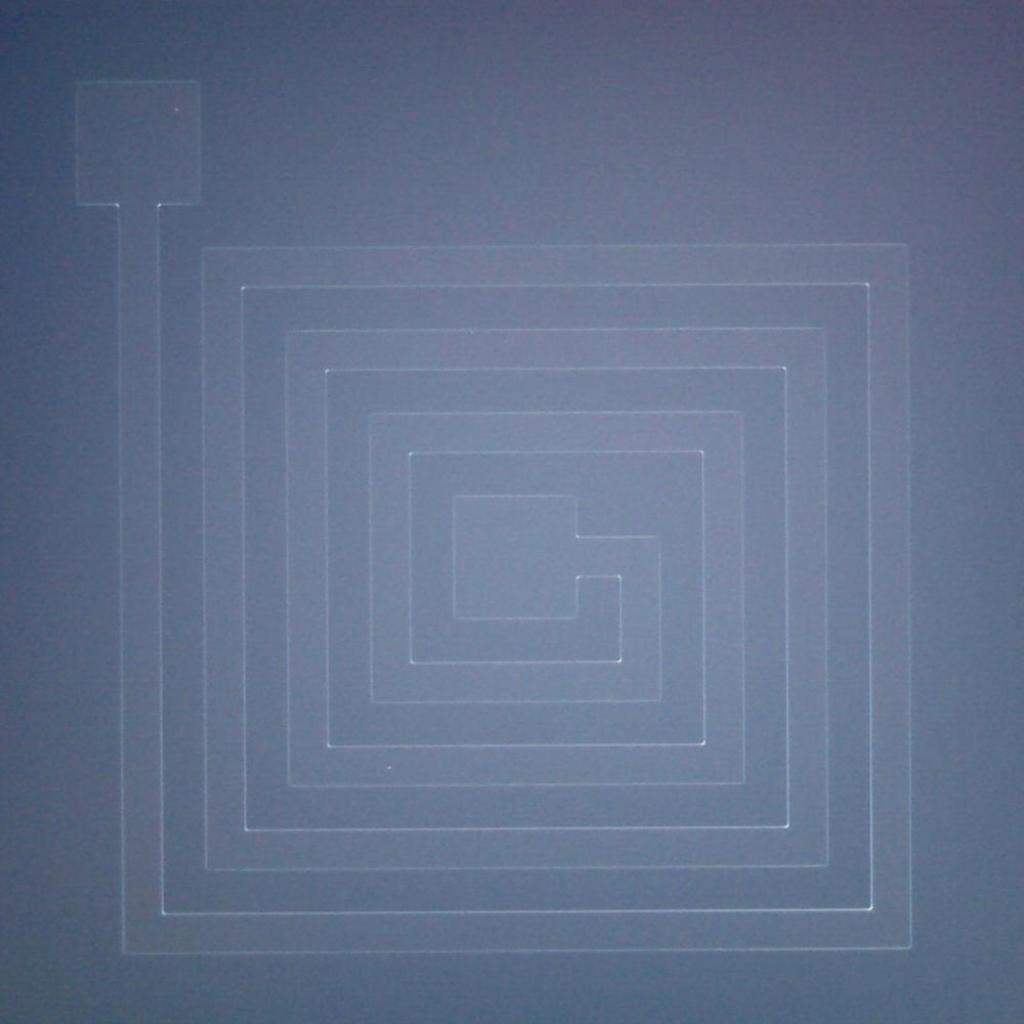dot: (386, 764, 392, 770), (174, 108, 178, 112)
